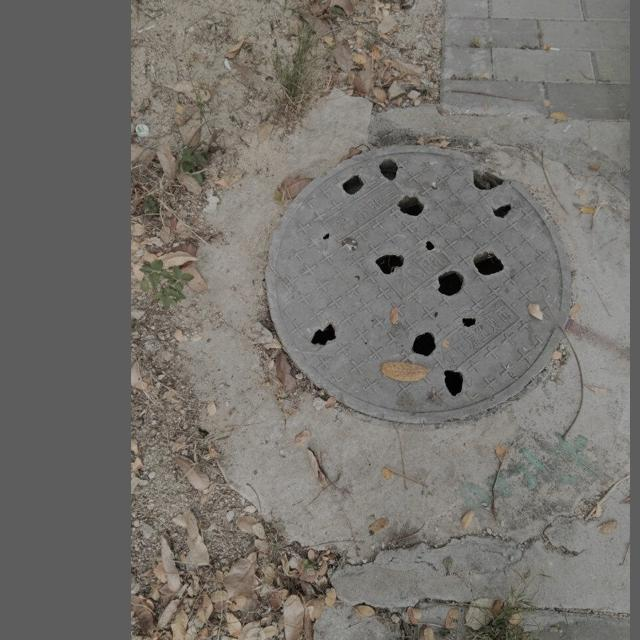broke: (266, 142, 576, 422)
